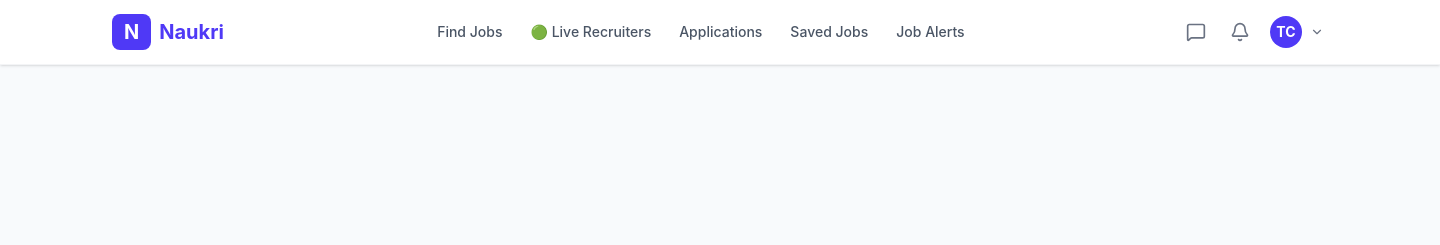
it: Navbar — candidate › opens avatar dropdown on avatar click
The image size is (1440, 245).
Click the button "TC" at (1297, 32), box [1266,12,1328,52]
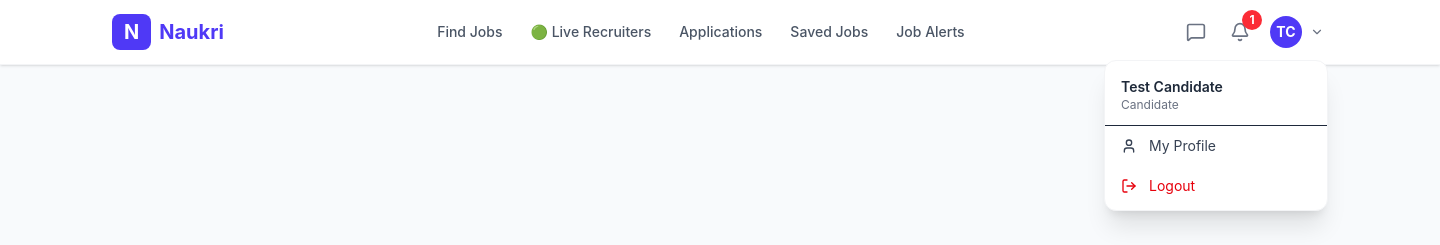
Expected: the link "My Profile" is shown, [1121,137,1216,154]
